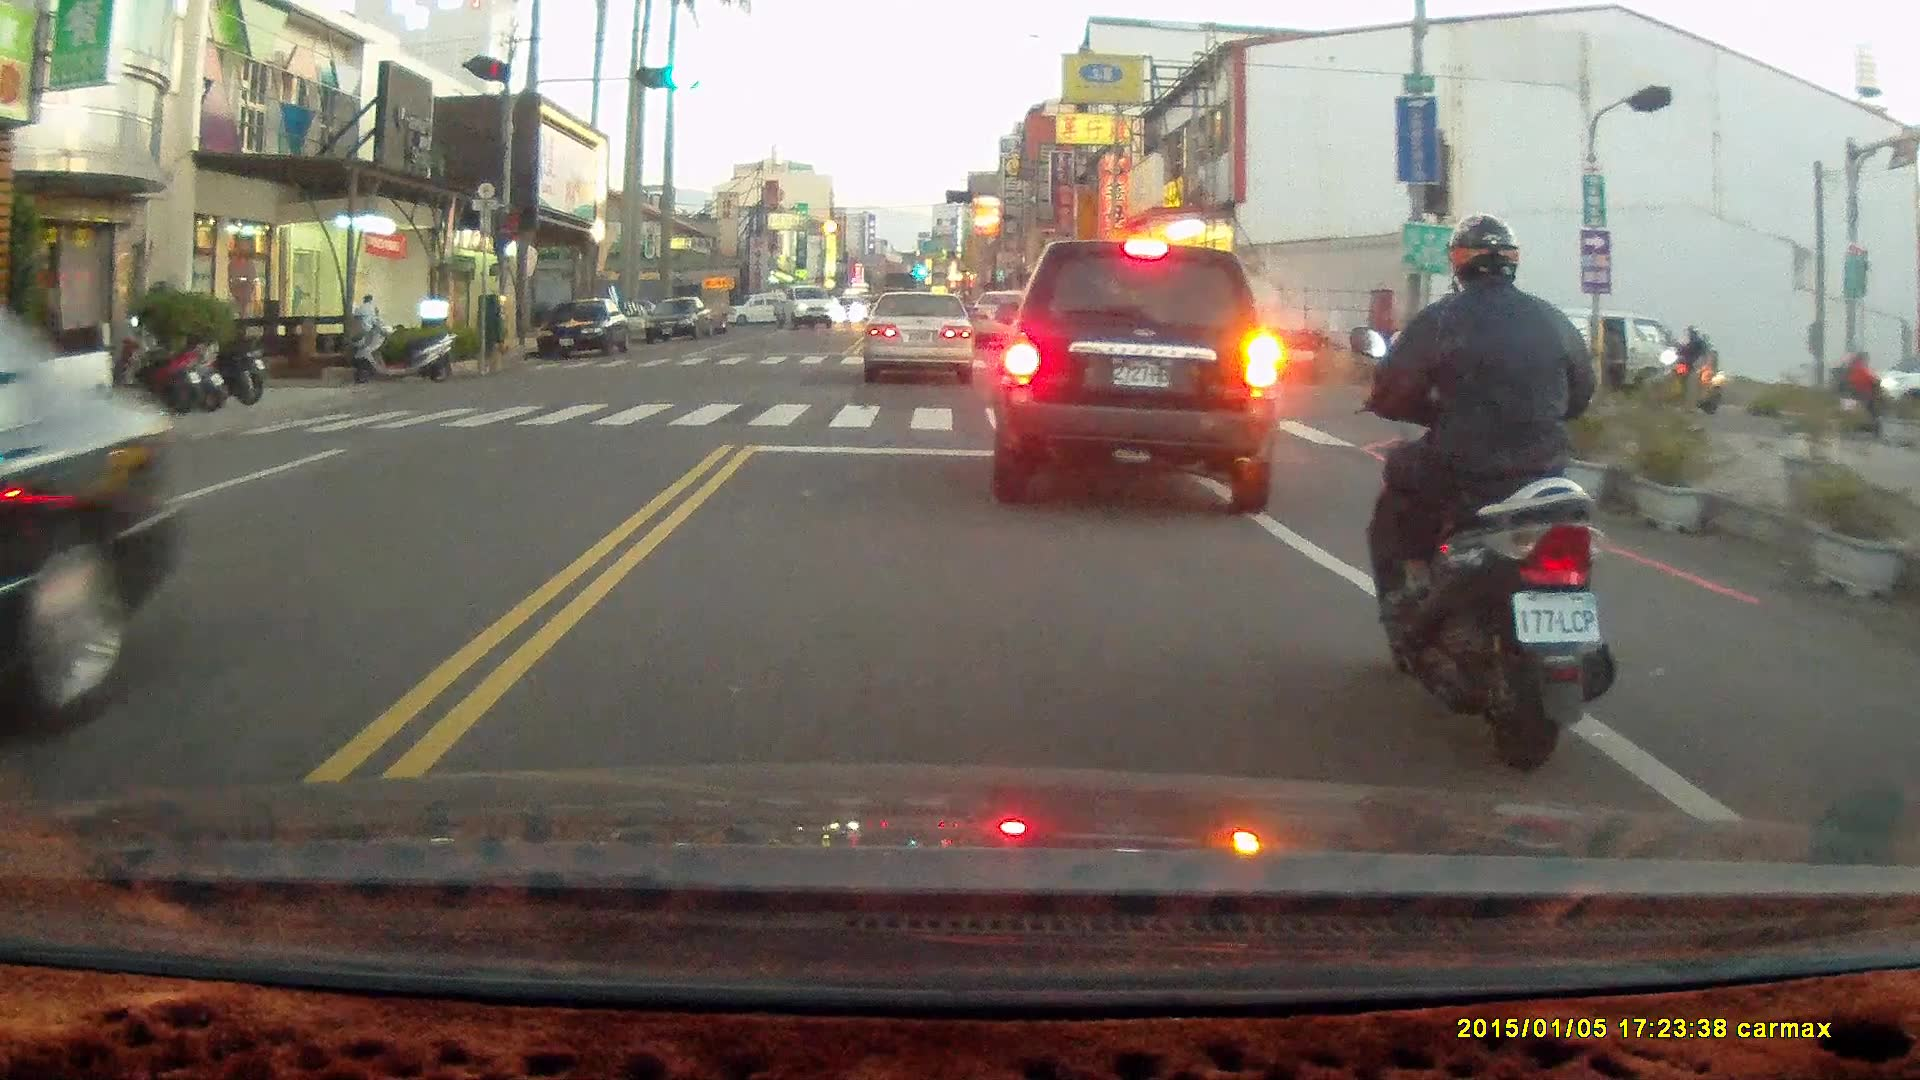pedestrian: (351, 292, 382, 359), (1601, 321, 1624, 393)
rider: (1341, 211, 1614, 771), (1645, 319, 1718, 413), (1820, 348, 1893, 436)
vehicle: (1, 283, 219, 723), (993, 238, 1276, 518), (1490, 308, 1691, 408), (862, 293, 975, 389), (534, 299, 633, 359), (637, 296, 714, 344), (772, 284, 835, 334)
